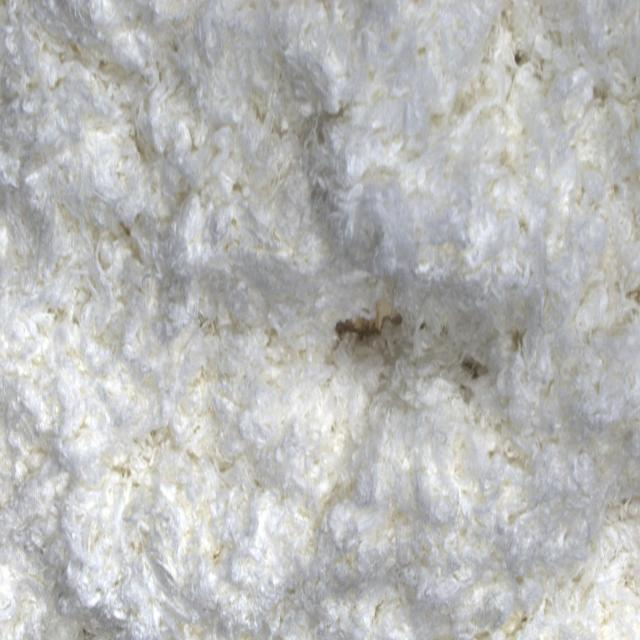dust: (331, 306, 404, 352)
